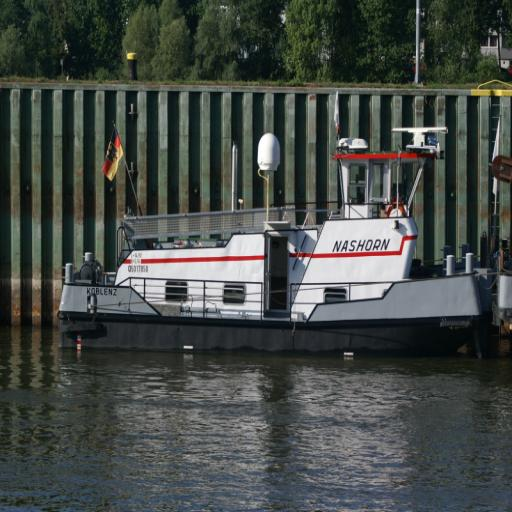tugboat: (55, 124, 503, 374)
